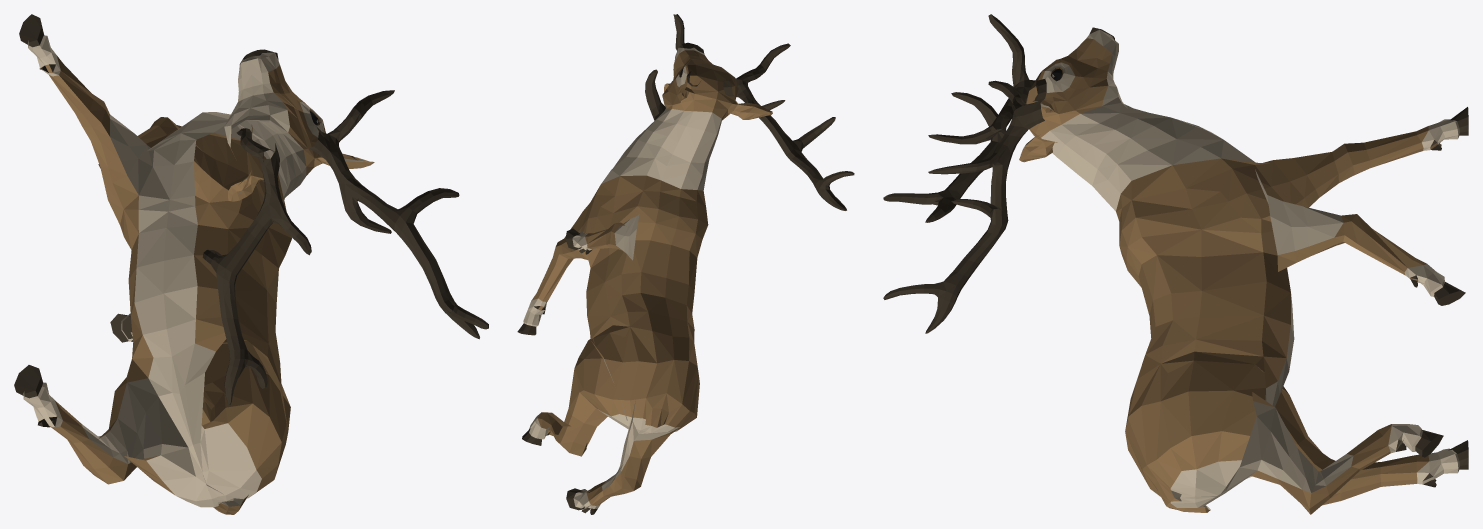
Rendered from stag-walk-0.glb.
3 views of the same model, side by side, from view 1: azimuth 30°, elevation 25°; view 2: azimuth 150°, elevation 25°; view 3: azimuth 270°, elevation 25° (orthographic). The views are drawn at different scales.
Bounding box in the file's own units: 0.8649 × 1.67 × 1.82.
